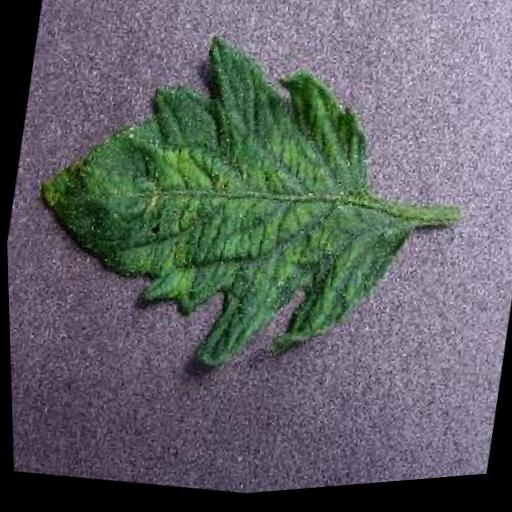Mosaic Virus: (5, 0, 439, 413)
